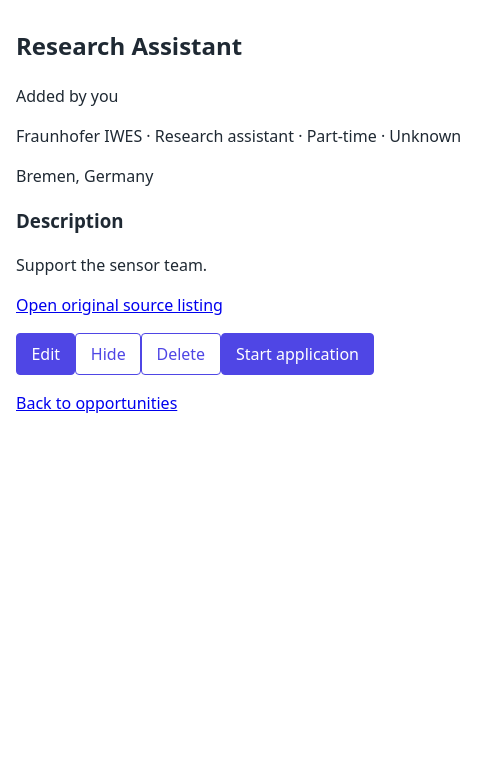
Test case: PrivateOpportunityDetailPage › edits and saves the manual opportunity in place
Expected: the heading "Research Assistant" is shown, [16, 29, 242, 62]
Step 1. Click the button "Edit" → {"x": 46, "y": 354}, box [16, 333, 75, 375]
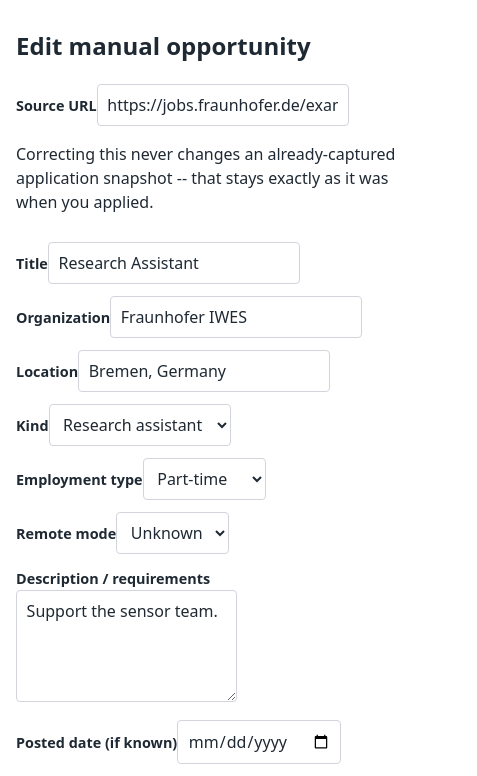
Step 2. Replace the text in the field labelled "Title" with "Senior Research Assistant" → {"x": 174, "y": 263}, box [48, 242, 300, 284]
(page scrolled)
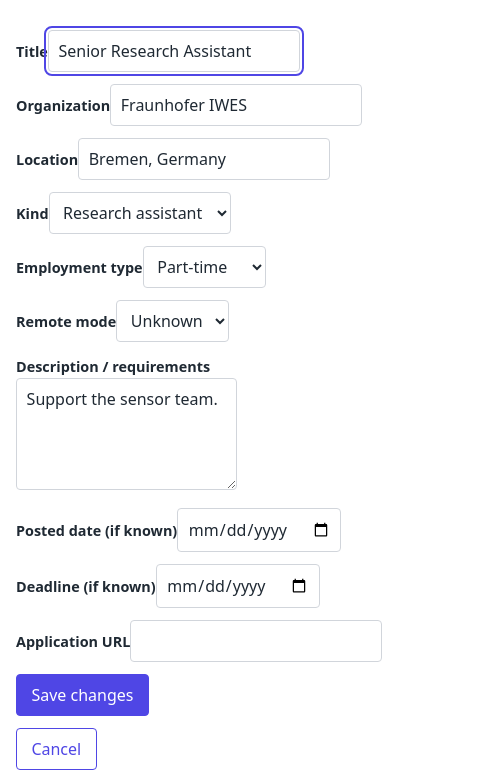
Step 3. Click the button "Save changes" → {"x": 82, "y": 695}, box [16, 674, 149, 716]
(page scrolled)
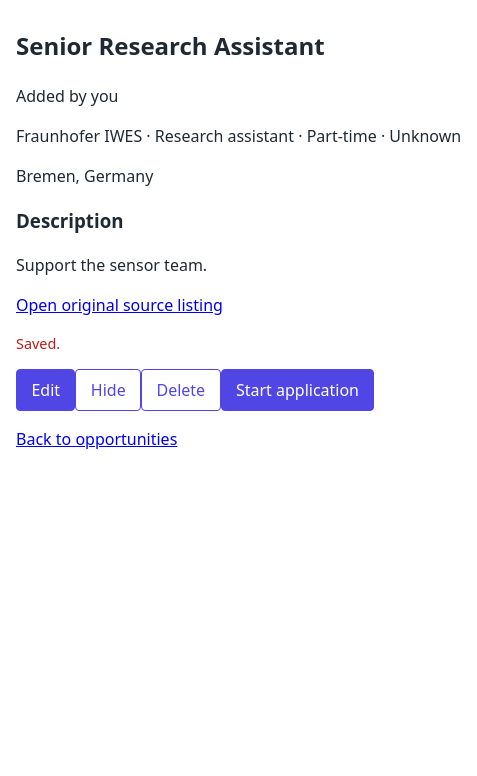
Expected: the heading "Senior Research Assistant" is shown, [16, 29, 325, 62]
